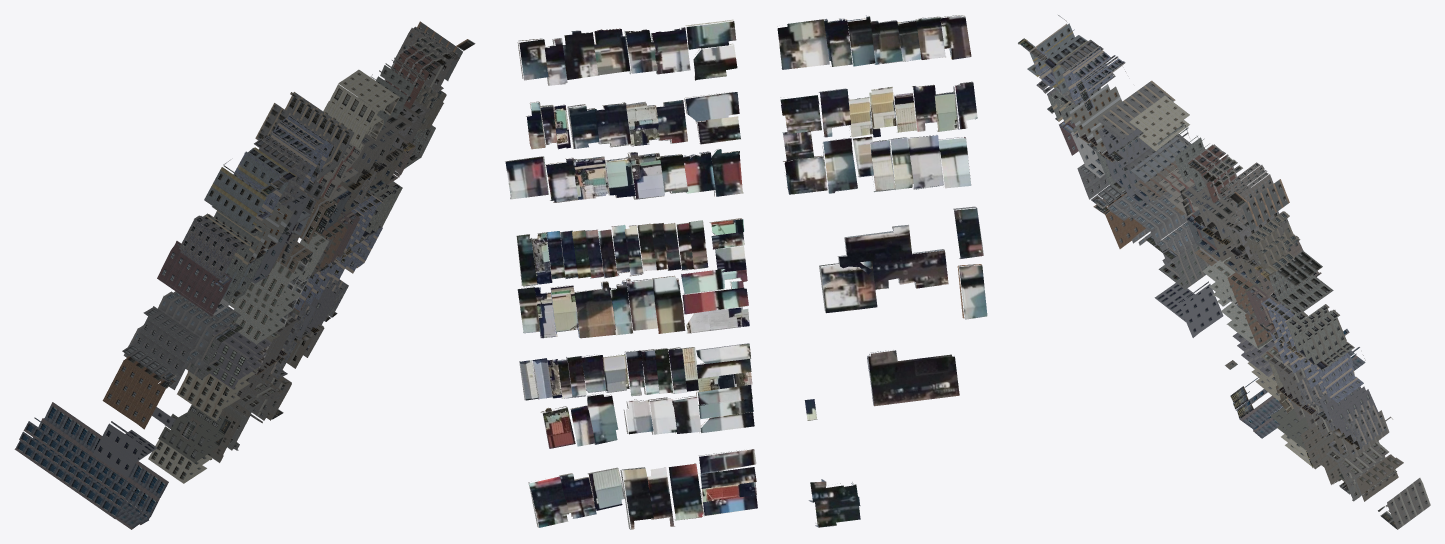
The model's file is tile_LOD4_r5_c8.glb.
The picture shows the model from 3 angles, left to right: view 1: azimuth 30°, elevation 25°; view 2: azimuth 150°, elevation 25°; view 3: azimuth 270°, elevation 25°; orthographic projection. The views are drawn at different scales.
Bounding box in the file's own units: 169 × 172 × 156.
394 materials, 394 textured.
